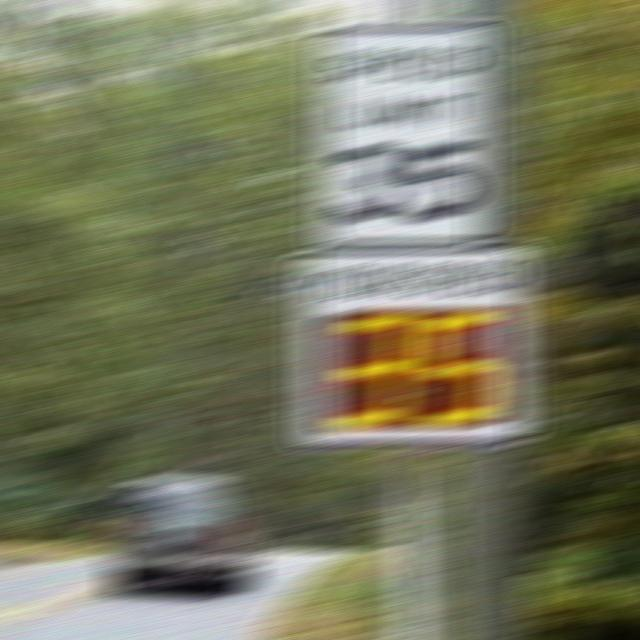speedLimit35: (316, 32, 488, 230), (98, 476, 265, 594)
